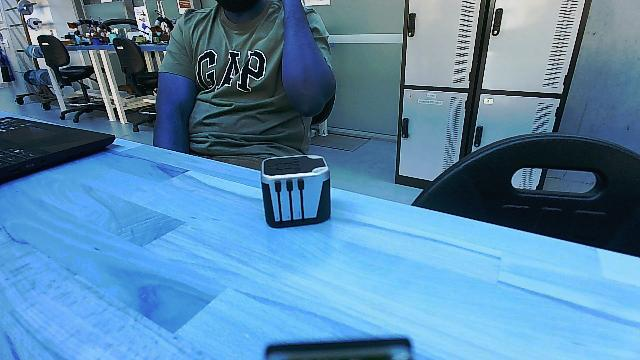adapter: (260, 148, 336, 230)
